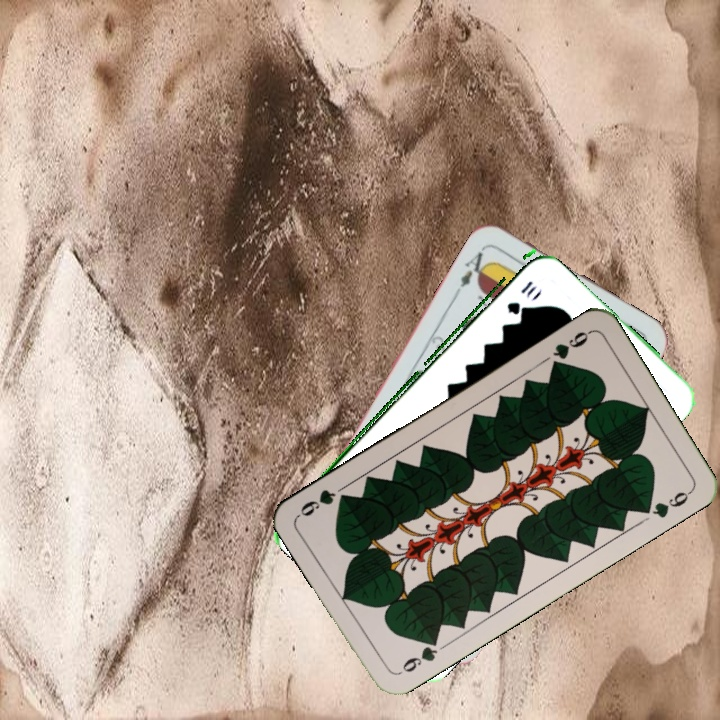EA: (456, 243, 494, 290)
G10: (502, 276, 539, 316)
G9: (547, 326, 594, 372), (398, 632, 442, 675)
